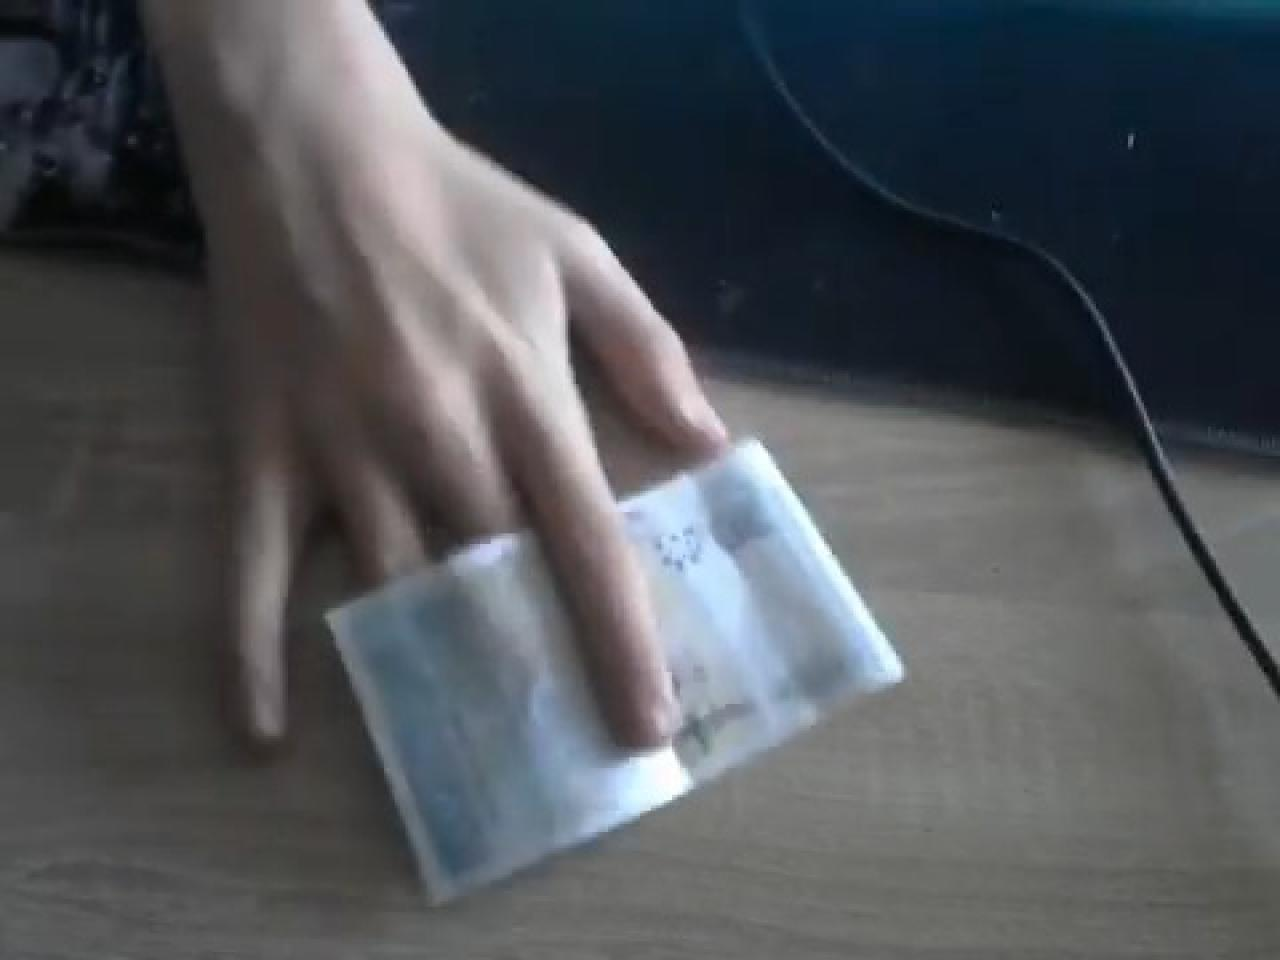20leva: (334, 438, 907, 902)
